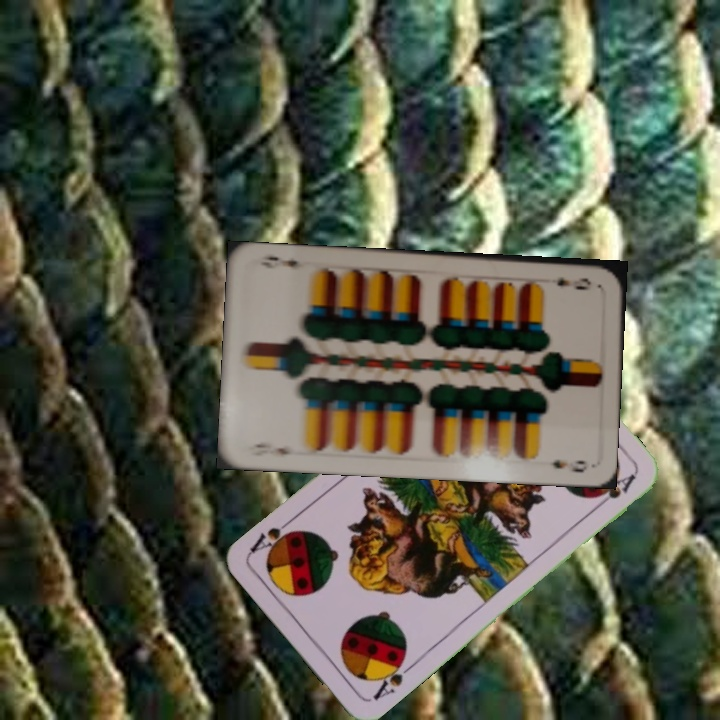E9: (244, 439, 301, 458), (553, 273, 594, 293)
SA: (369, 652, 416, 703)
